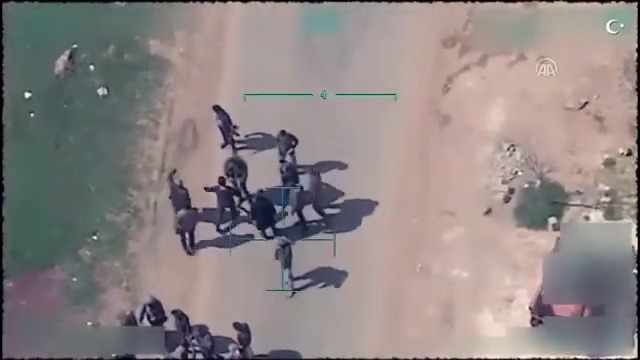insan: (199, 171, 244, 235), (270, 235, 305, 297), (173, 200, 202, 255), (211, 102, 239, 155), (161, 163, 192, 210), (267, 126, 300, 167), (231, 314, 258, 359)
